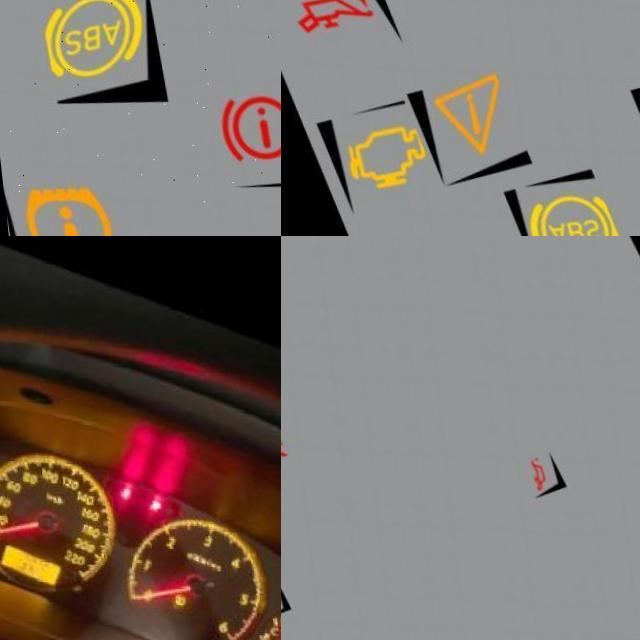High Engine Coolant Temperature: (254, 623, 274, 638)
